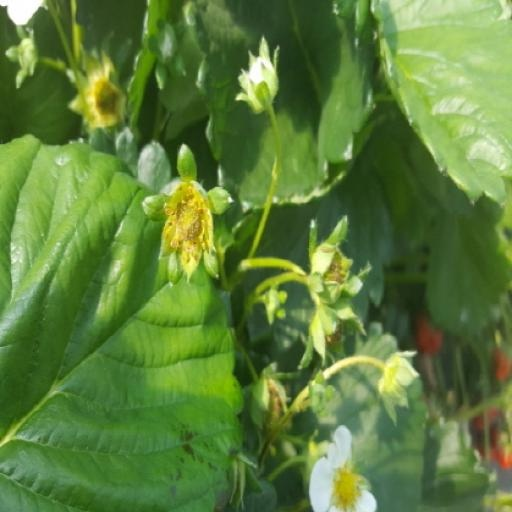Blossom Blight: (297, 179, 351, 273)
